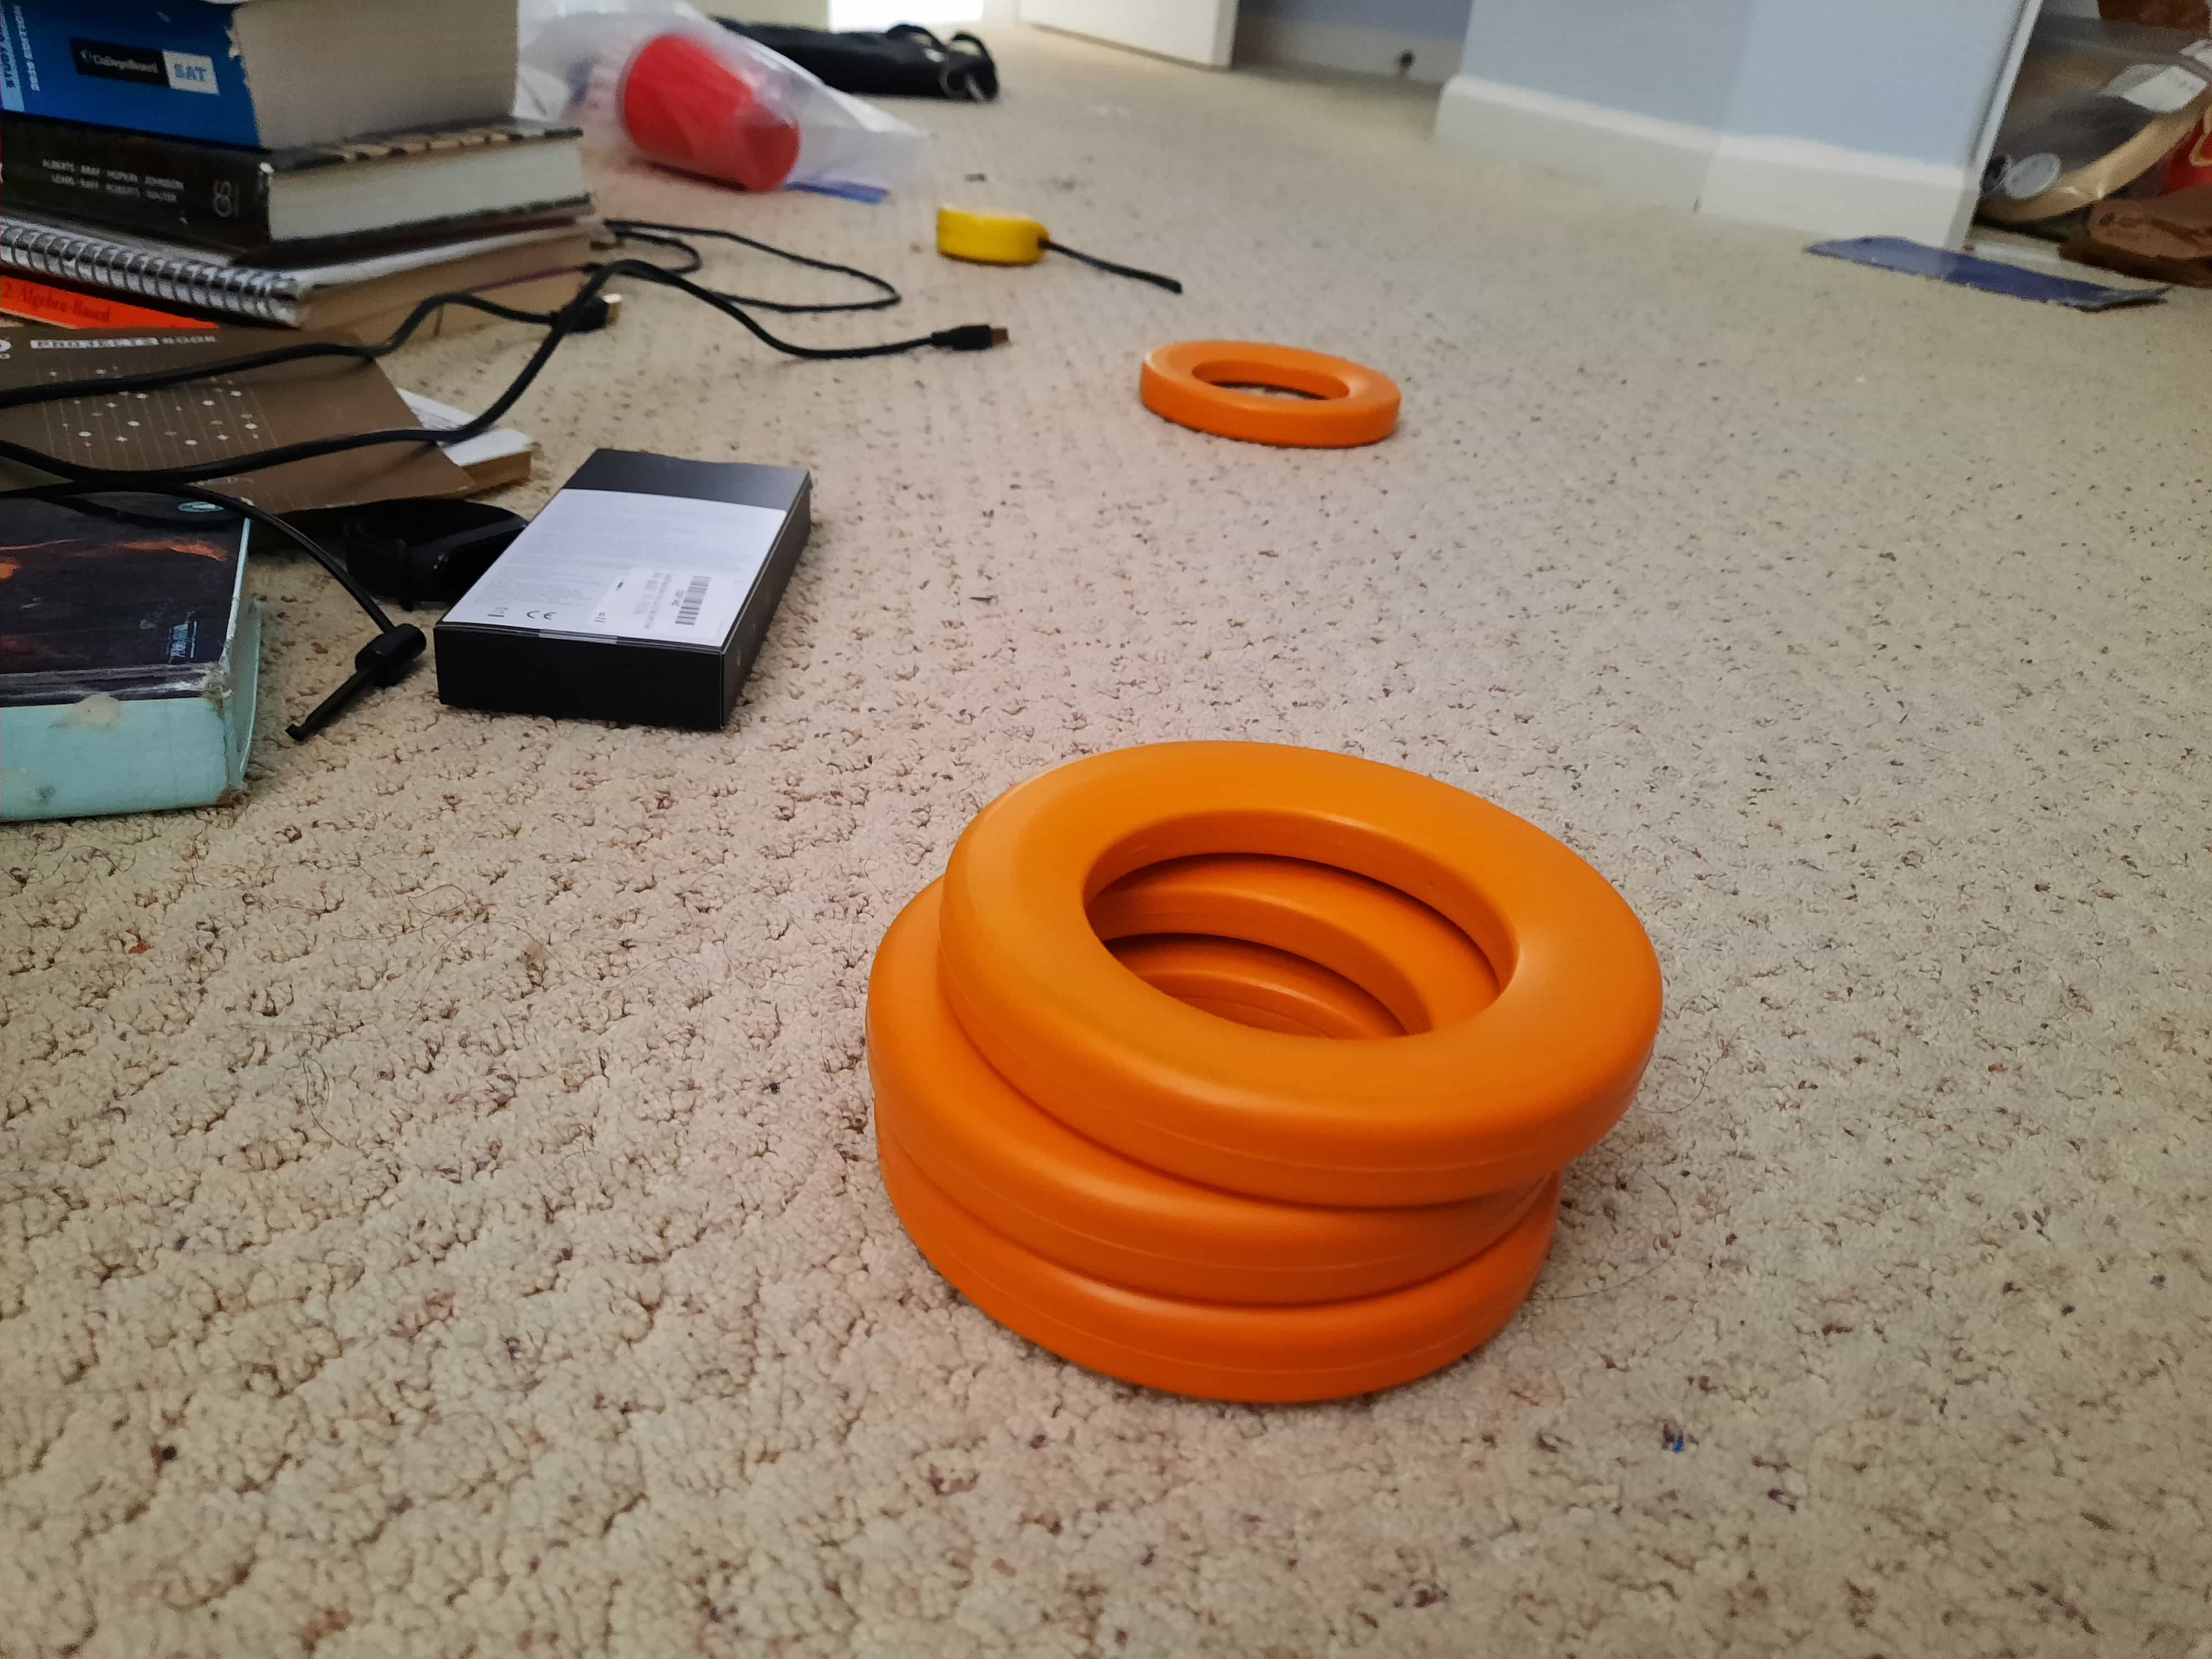FourStack: (866, 742, 1663, 1403)
OneStack: (1136, 333, 1406, 439)
